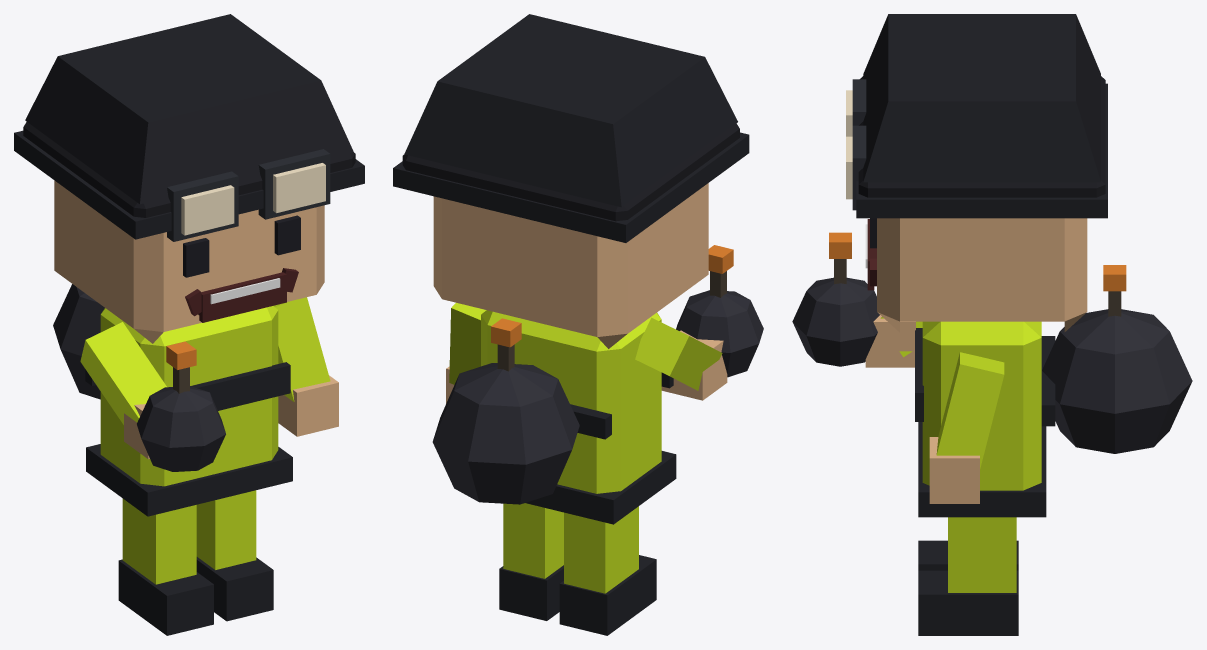
The model's file is daredevil_common.glb.
The picture shows the model from 3 angles, left to right: view 1: azimuth 30°, elevation 25°; view 2: azimuth 150°, elevation 25°; view 3: azimuth 270°, elevation 25°; orthographic projection. The views are drawn at different scales.
Parts seen in each view (by area): view 1: daredevil_common_mesh; view 2: daredevil_common_mesh; view 3: daredevil_common_mesh.
Boxes of the visible parts, <box> form: daredevil_common_mesh: <box>14,14,364,635</box>; daredevil_common_mesh: <box>393,14,763,635</box>; daredevil_common_mesh: <box>792,14,1192,635</box>.
Bounding box in the file's own units: 0.6158 × 1.3 × 0.8553.
Materials: 1 (1 with a texture image).
